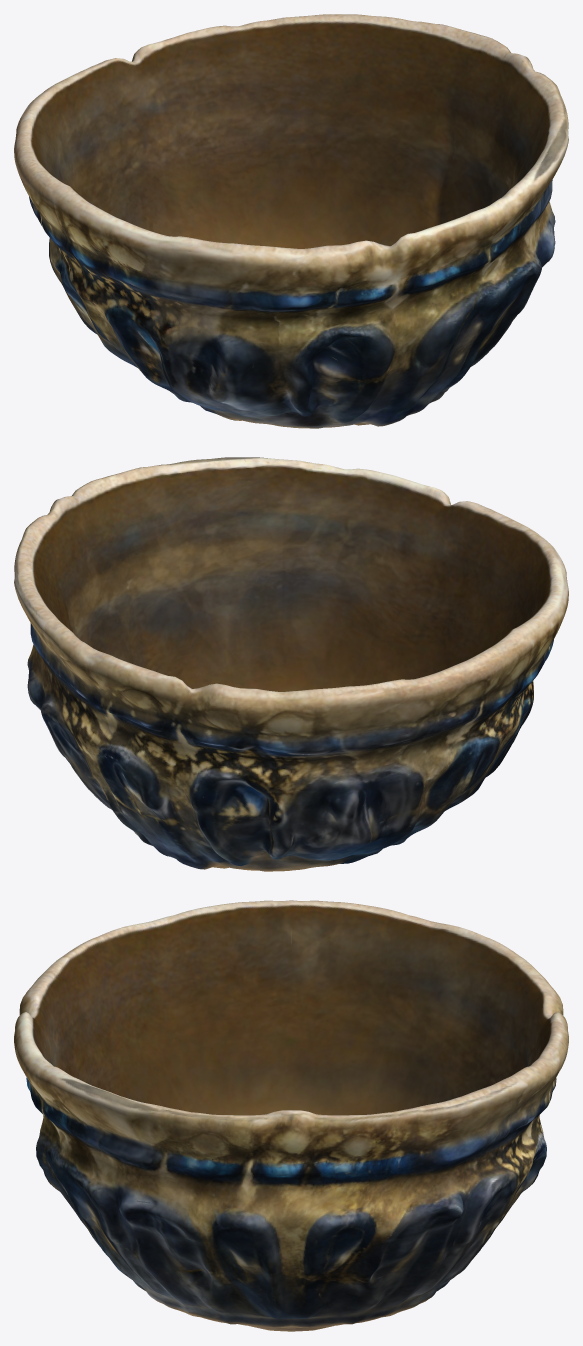
The model's file is Ancient_Glass_Bowl_1126103824.fbx.
3 views of the same model, one above another, from view 1: azimuth 30°, elevation 25°; view 2: azimuth 150°, elevation 25°; view 3: azimuth 270°, elevation 25° (orthographic). The views are drawn at different scales.
Parts seen in each view (by area): view 1: Mesh_0; view 2: Mesh_0; view 3: Mesh_0.
Boxes of the visible parts, box(x1,y1,x2,y2) form: Mesh_0: box(14, 14, 568, 428); Mesh_0: box(14, 457, 568, 871); Mesh_0: box(14, 900, 568, 1331).
Size of the model in its own units: 200 by 115 by 197.
Materials: 1 (1 with a texture image).
